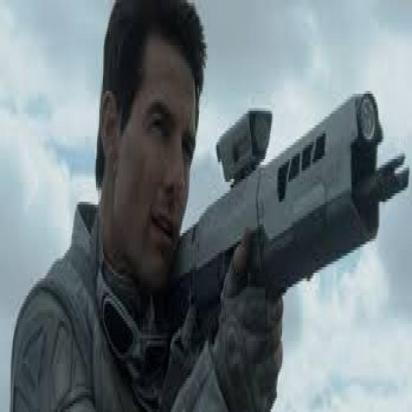Gun: (157, 72, 411, 357)
